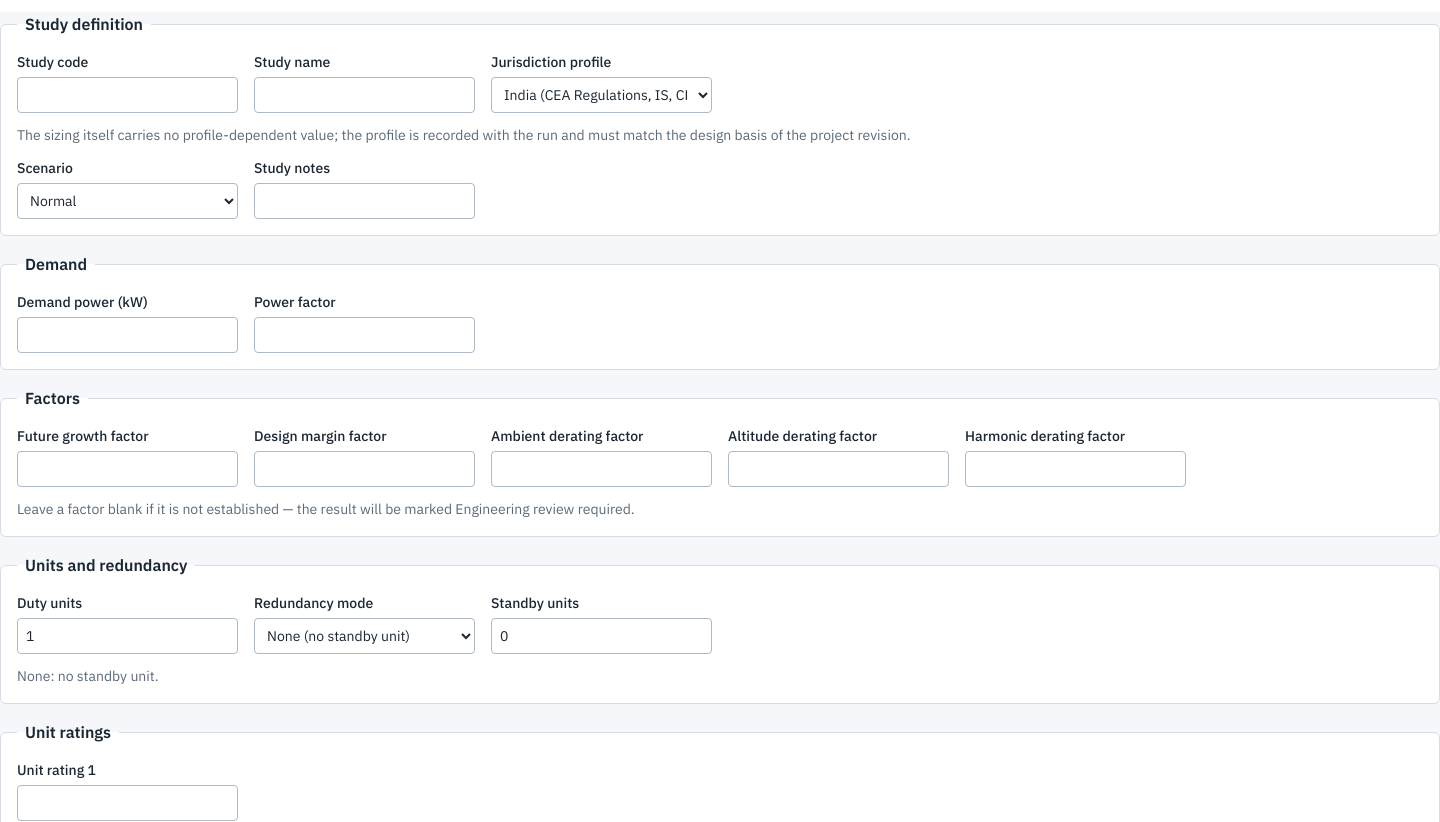
Test case: TransformerStudyForm › derives the standby count from the redundancy mode
Expected: the field labelled "Standby units" holds "0", [491,618,712,654]
Expected: the text "None: no standby unit." is shown, [17,667,158,685]
Select "N+1 (one standby unit)" in the dropdown labelled "Redundancy mode": (364, 636) [254,618,475,654]
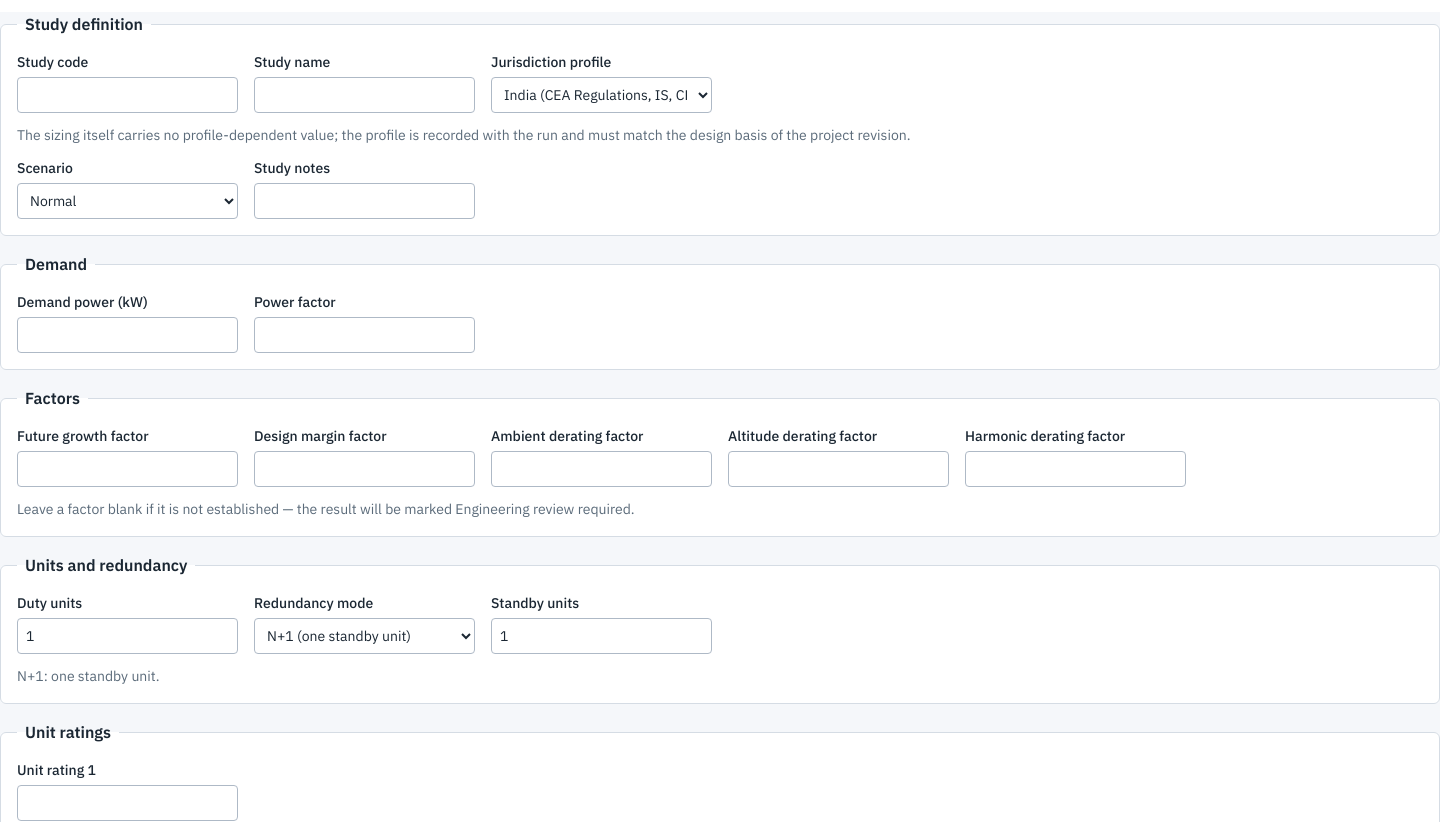
Expected: the field labelled "Standby units" holds "1", [491,618,712,654]
Expected: the text "N+1: one standby unit." is shown, [17,667,160,685]
Select "2N (a standby unit for every duty unit)" in the dropdown labelled "Redundancy mode": (364, 636) [254,618,475,654]
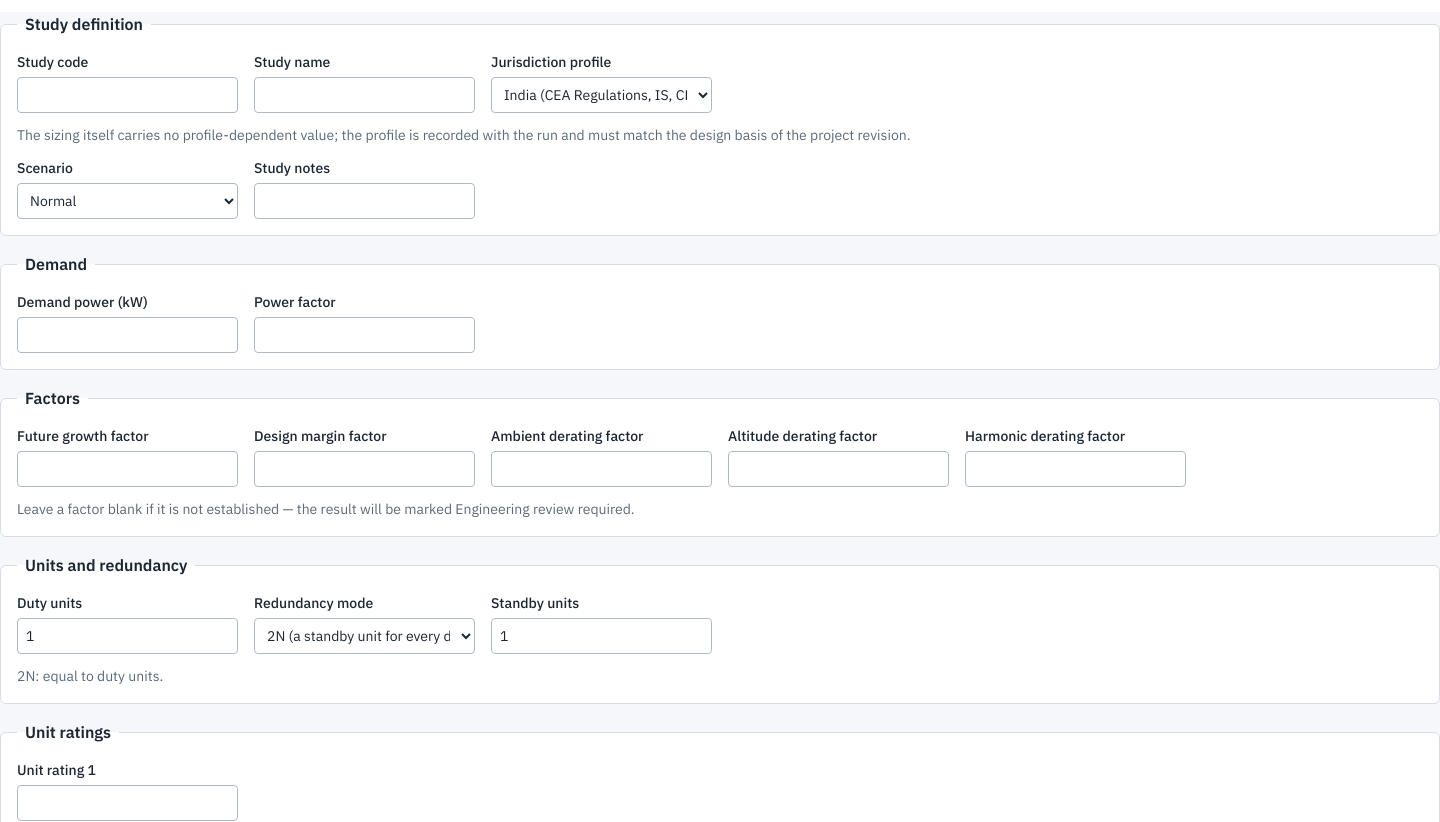
Expected: the field labelled "Standby units" holds "1", [491,618,712,654]
Expected: the text "2N: equal to duty units." is shown, [17,667,163,685]
